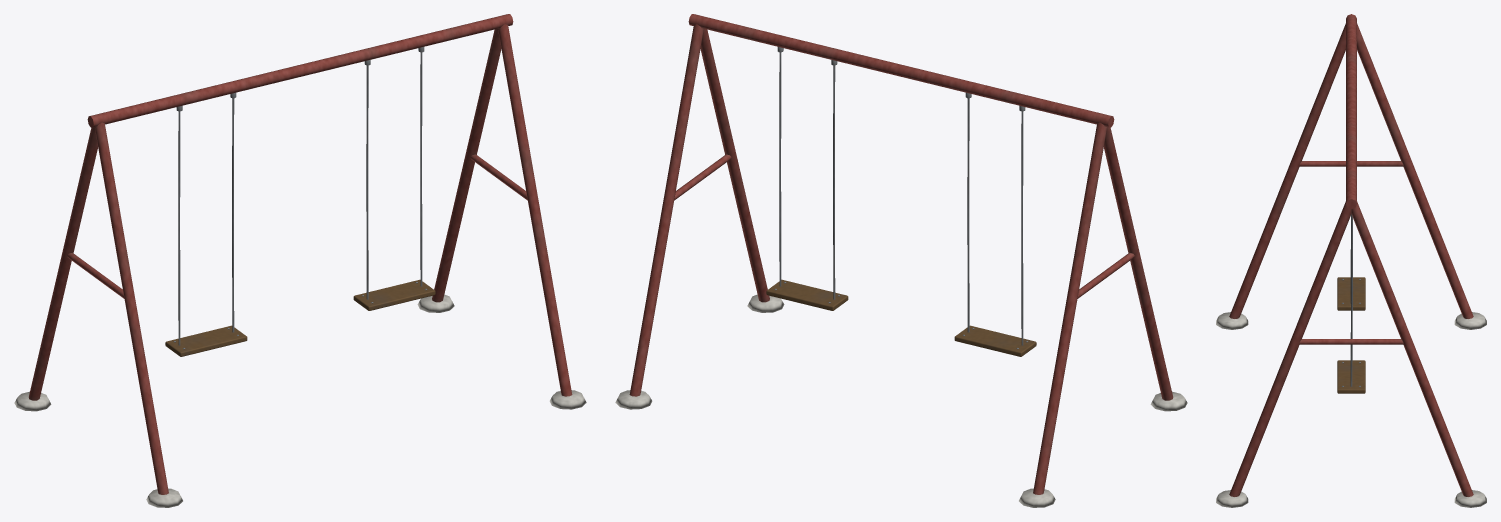
The model's file is ul_hustawka.glb.
3 views of the same model, side by side, from view 1: azimuth 30°, elevation 25°; view 2: azimuth 150°, elevation 25°; view 3: azimuth 270°, elevation 25° (orthographic). The views are drawn at different scales.
Visible parts, largest first — view 1: Hustawka; view 2: Hustawka; view 3: Hustawka.
Boxes of the visible parts, x1,y1,x2,y2 form: Hustawka: (14, 14, 586, 507); Hustawka: (615, 14, 1187, 507); Hustawka: (1216, 14, 1486, 507).
Size of the model in its own units: 3.24 by 2.41 by 1.93.
Materials: 1 (1 with a texture image).
